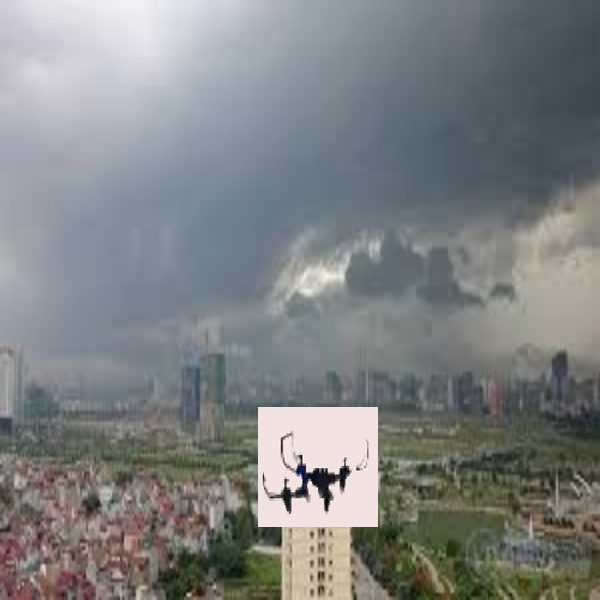drone: (260, 428, 374, 526)
